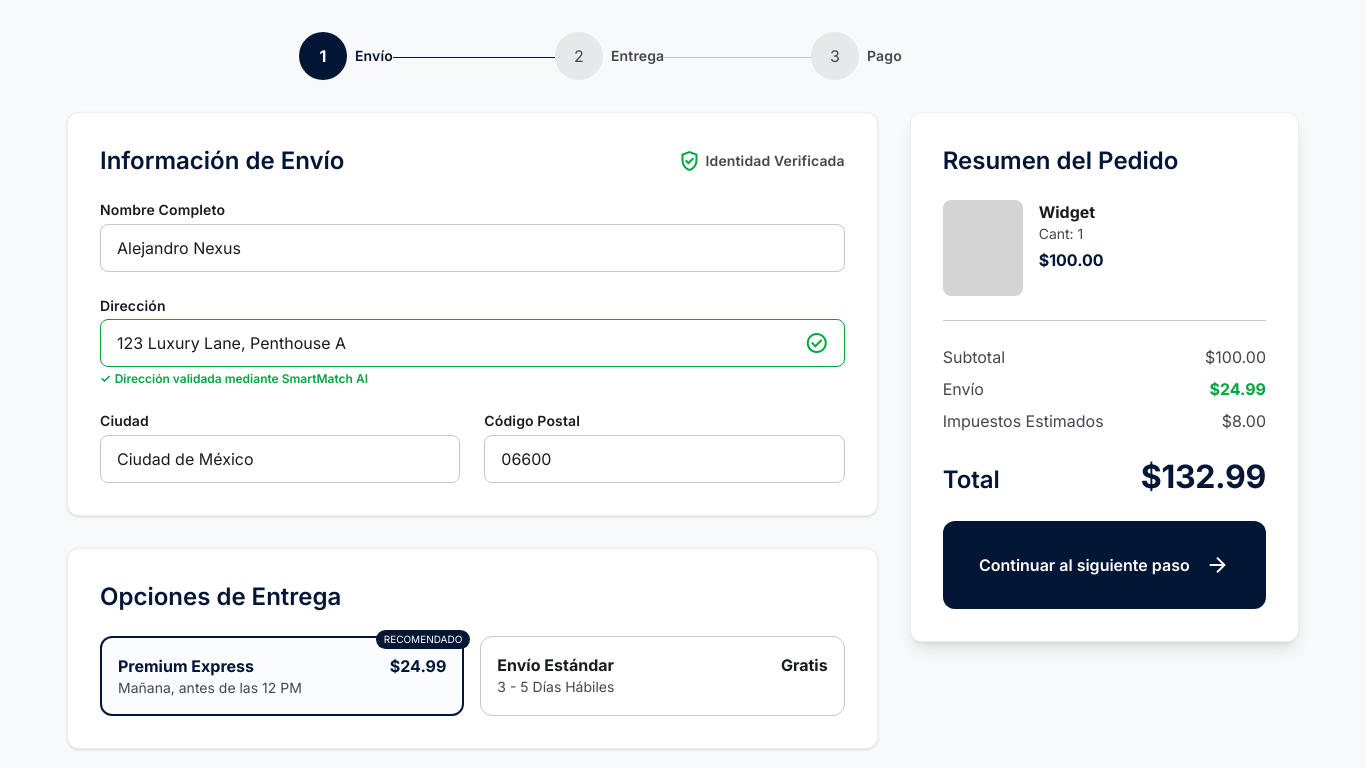
Test: CheckoutPage › shows confirmation dialog after reaching final step
Click the button "Continuar al siguiente paso" at (1104, 565), box [943,521,1266,609]
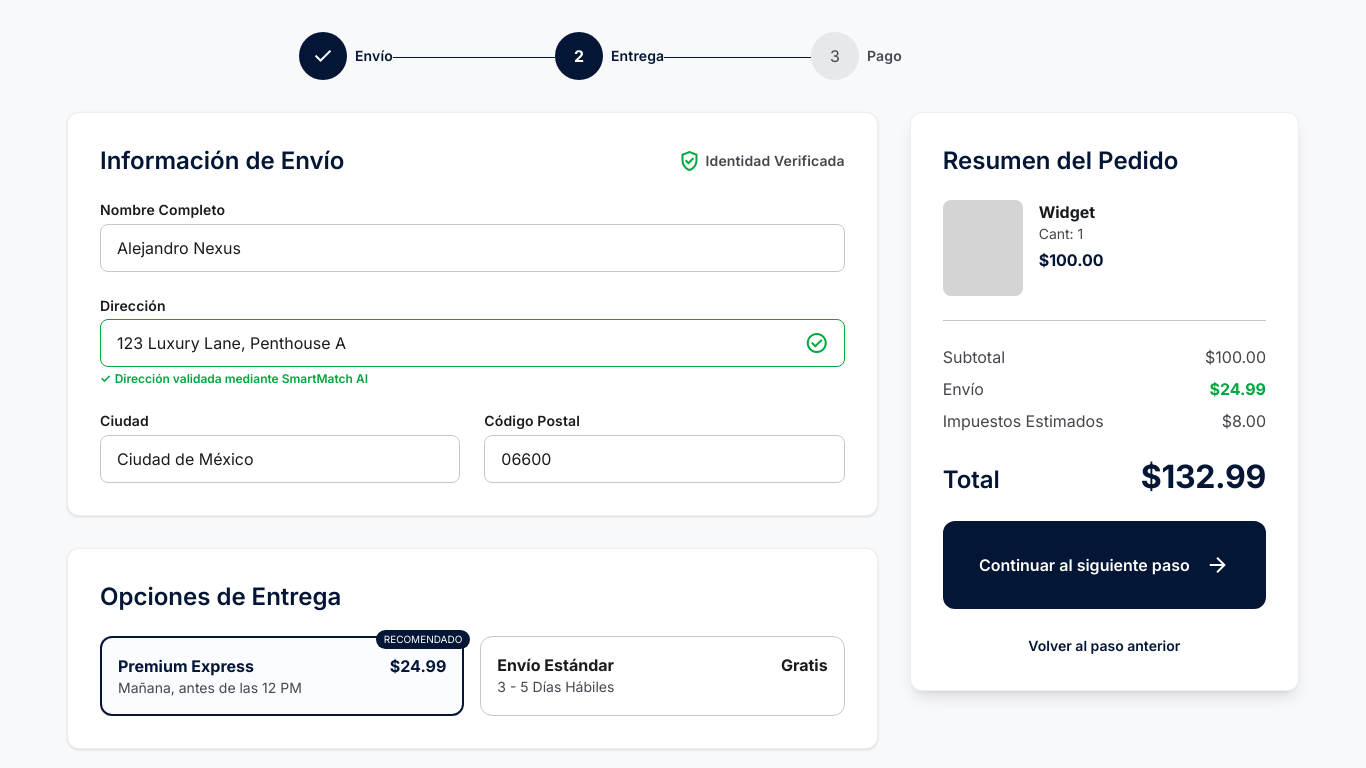
Click the button "Continuar al siguiente paso" at (1104, 565), box [943,521,1266,609]
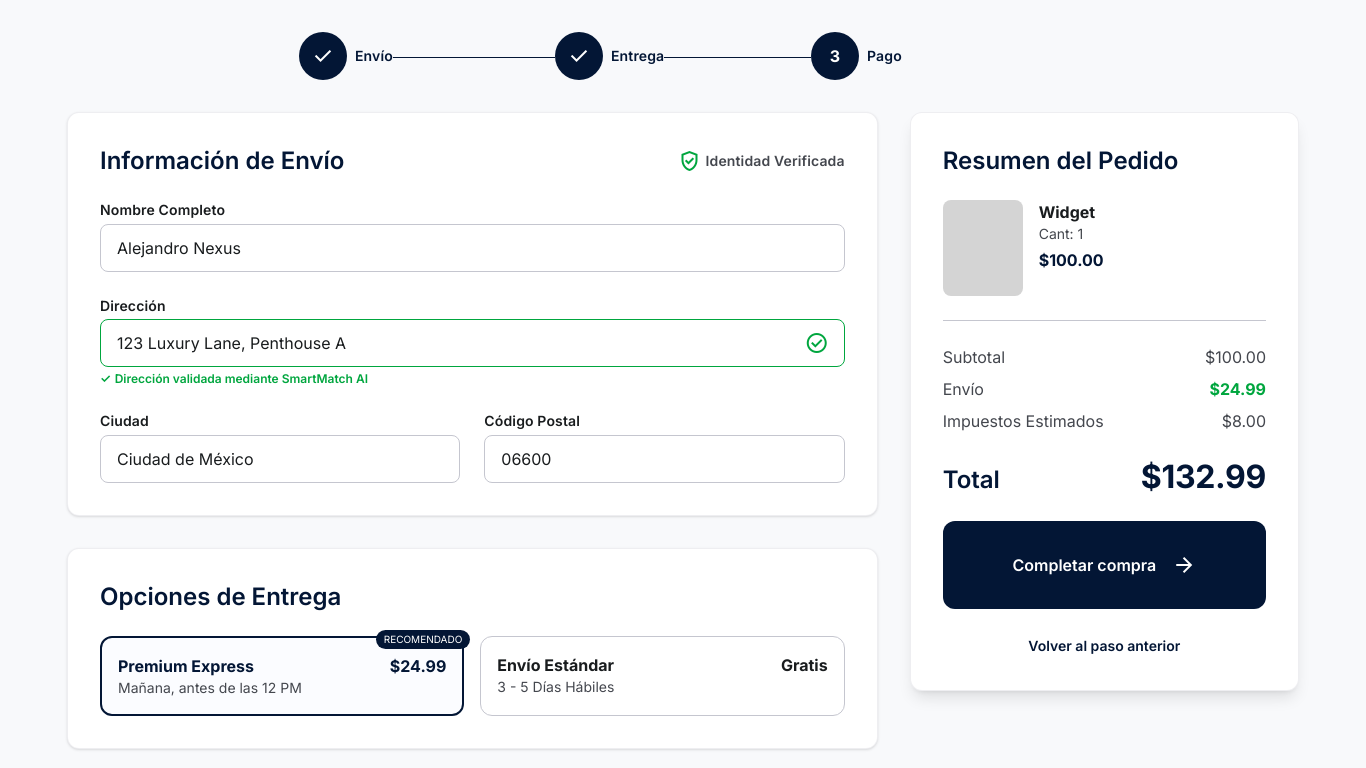
Click the button "Completar compra" at (1104, 565), box [943,521,1266,609]
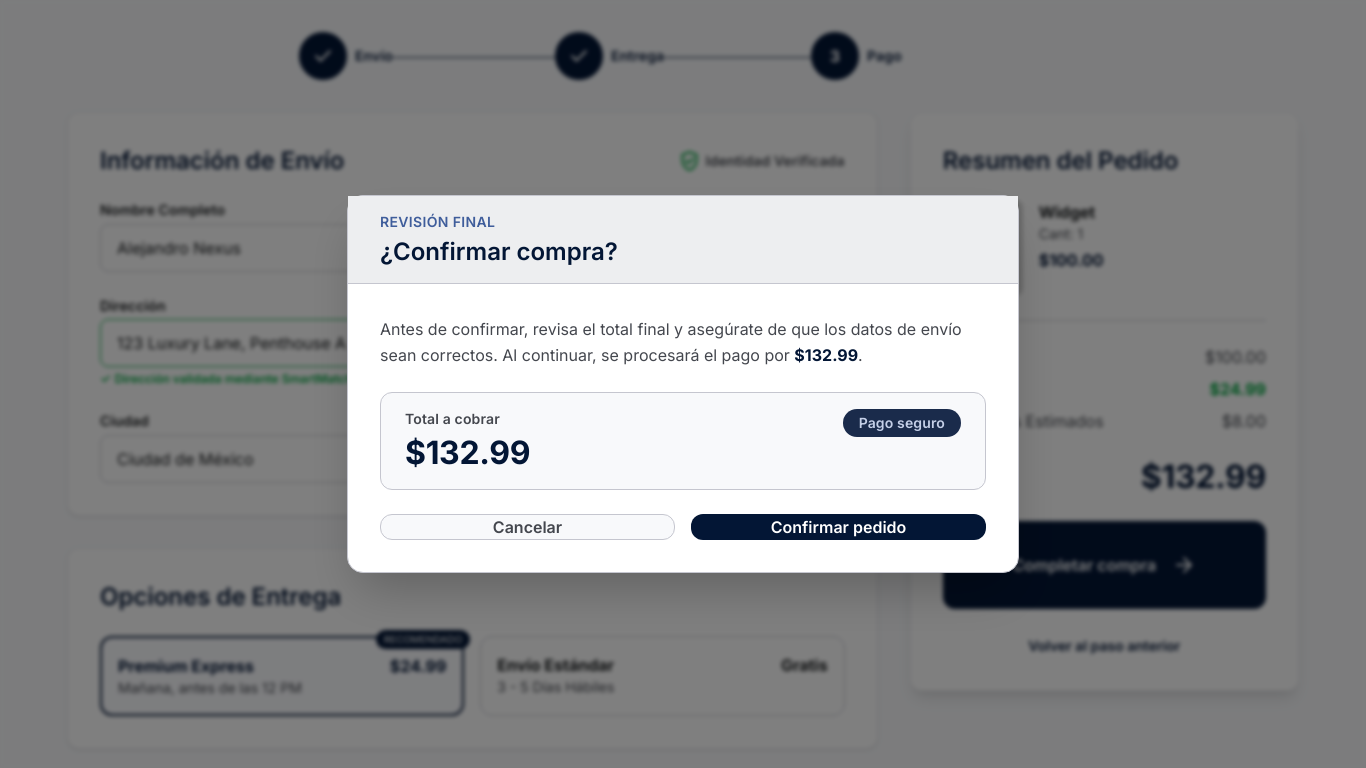
expect the heading "¿Confirmar compra?" is shown: met, box [380,237,618,266]
expect the button "Cancelar" is shown: met, box [380,514,675,540]
